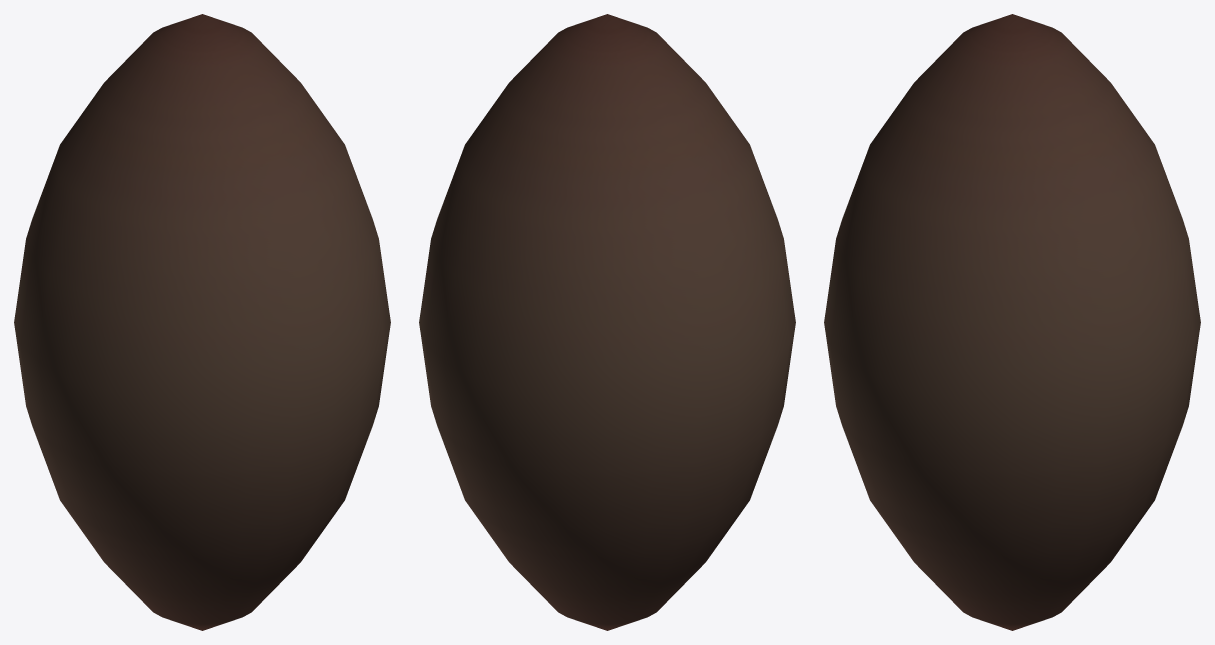
The model's file is OlivePit.glb.
3 views of the same model, side by side, from view 1: azimuth 30°, elevation 25°; view 2: azimuth 150°, elevation 25°; view 3: azimuth 270°, elevation 25° (orthographic).
Visible parts, largest first — view 1: geometry_0; view 2: geometry_0; view 3: geometry_0.
Boxes of the visible parts, x1,y1,x2,y2 form: geometry_0: (14, 14, 390, 630); geometry_0: (419, 14, 795, 630); geometry_0: (824, 14, 1200, 630).
Size of the model in its own units: 1.02 by 1.84 by 1.02.
1 material, 1 textured.
